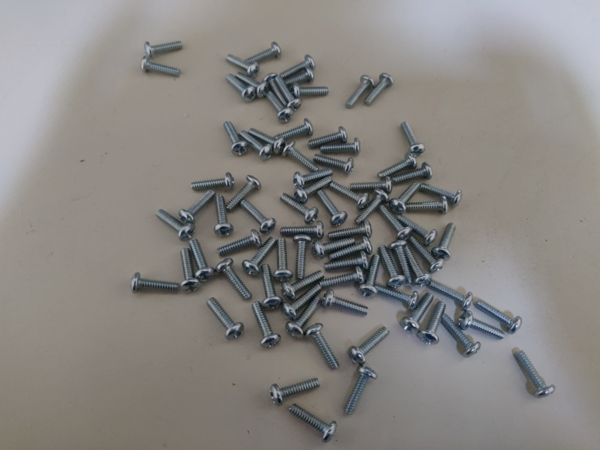shortscrew: (515, 350, 556, 399), (289, 403, 337, 443), (442, 315, 482, 359), (344, 365, 378, 416), (476, 301, 524, 336), (305, 323, 340, 371), (348, 327, 390, 366), (207, 298, 244, 341), (286, 297, 323, 339), (216, 258, 252, 301), (252, 302, 282, 350), (270, 378, 320, 406), (400, 293, 434, 334), (283, 285, 322, 320), (458, 311, 505, 340), (243, 236, 277, 276), (155, 209, 196, 242), (409, 237, 446, 273), (239, 199, 277, 234), (323, 289, 370, 317), (226, 176, 262, 212), (282, 270, 325, 300), (375, 284, 421, 312), (418, 302, 446, 347), (179, 190, 215, 225), (404, 245, 433, 287), (189, 238, 216, 283), (379, 245, 406, 290), (388, 240, 414, 286), (430, 283, 474, 310), (380, 204, 413, 240), (356, 189, 389, 225), (280, 193, 318, 224), (217, 230, 262, 256), (419, 182, 462, 209), (283, 142, 319, 174), (397, 216, 438, 244), (377, 151, 418, 179), (330, 182, 370, 210), (329, 236, 372, 262), (248, 128, 287, 156), (295, 176, 334, 204), (319, 266, 364, 290), (318, 190, 348, 226), (131, 273, 179, 295), (312, 237, 356, 261), (240, 131, 275, 161), (359, 254, 382, 299), (262, 264, 283, 311), (308, 126, 349, 150), (432, 222, 457, 261), (180, 249, 202, 293), (273, 238, 295, 282), (346, 76, 375, 109), (365, 73, 394, 106), (224, 120, 249, 156), (324, 251, 369, 271), (237, 73, 271, 99), (313, 155, 355, 176), (214, 195, 235, 237), (142, 56, 182, 78), (328, 220, 372, 240), (293, 234, 312, 279), (227, 74, 256, 103), (392, 163, 434, 183), (405, 196, 449, 215), (267, 91, 293, 123), (402, 122, 425, 158), (190, 173, 235, 191), (281, 221, 325, 239), (225, 55, 259, 78), (321, 138, 361, 157), (293, 168, 333, 187), (280, 56, 316, 77), (245, 43, 282, 63), (143, 41, 183, 58), (351, 176, 392, 192), (291, 83, 329, 98), (287, 68, 315, 84)
